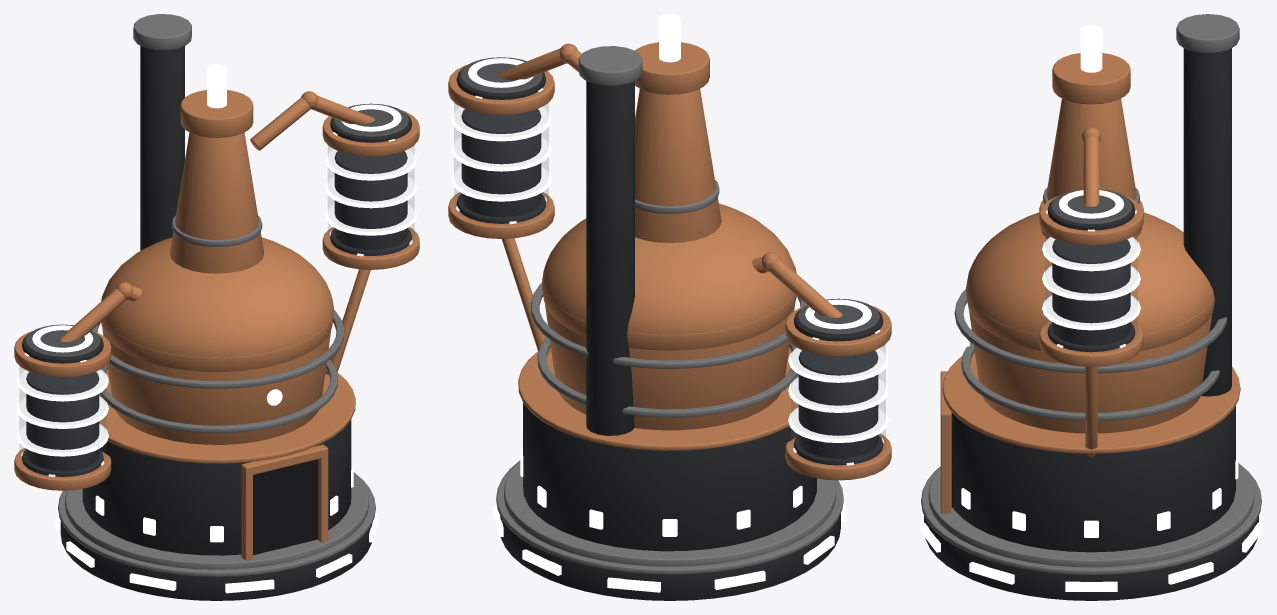
The model's file is Skin_Distillery_T2.glb.
3 views of the same model, side by side, from view 1: azimuth 30°, elevation 25°; view 2: azimuth 150°, elevation 25°; view 3: azimuth 270°, elevation 25° (orthographic). The views are drawn at different scales.
Visible parts, largest first — view 1: Skin_Distillery_T2; view 2: Skin_Distillery_T2; view 3: Skin_Distillery_T2.
Boxes of the visible parts, <box> form: Skin_Distillery_T2: <box>14,14,419,600</box>; Skin_Distillery_T2: <box>448,14,891,600</box>; Skin_Distillery_T2: <box>920,14,1262,600</box>.
Bounding box in the file's own units: 5.22 × 5.97 × 3.67.
